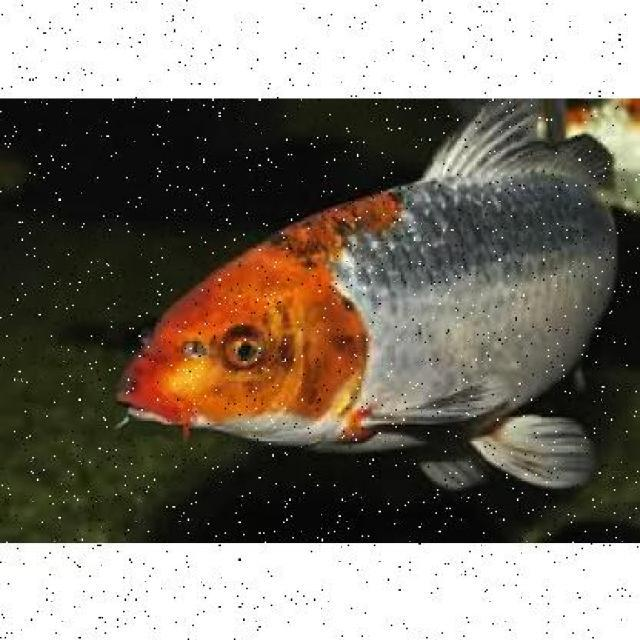ikan-mas: (123, 120, 619, 477)
